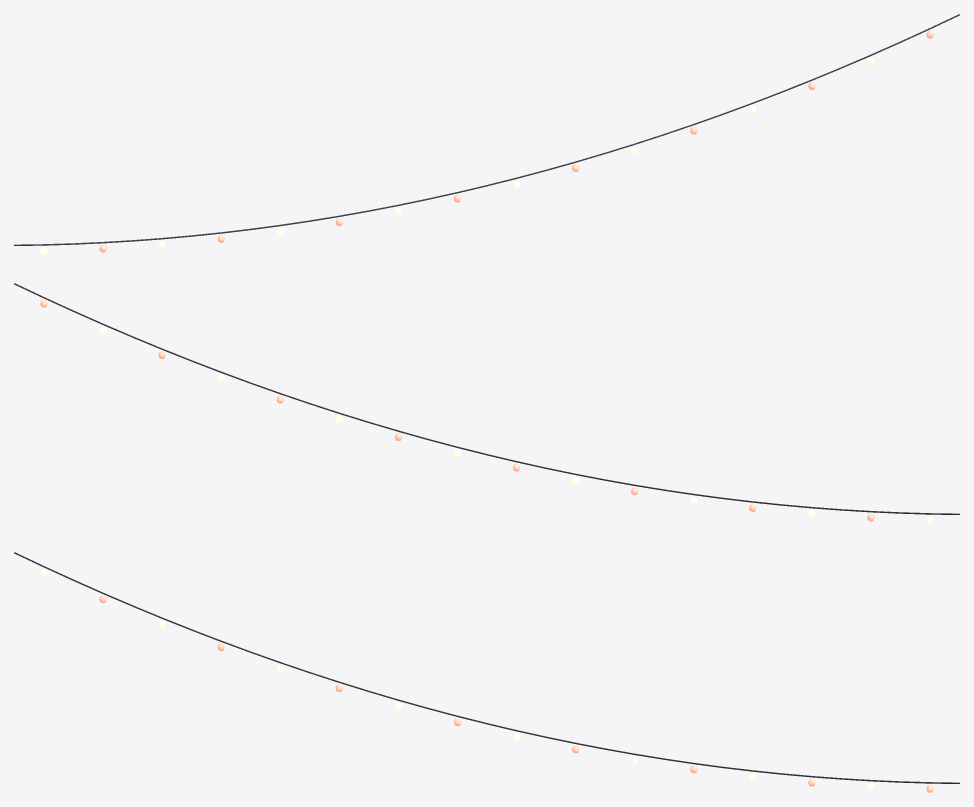
The model's file is prop_string_lights_span.glb.
The picture shows the model from 3 angles, top to bottom: view 1: azimuth 30°, elevation 25°; view 2: azimuth 150°, elevation 25°; view 3: azimuth 330°, elevation 25°; orthographic projection.
Visible parts, largest first — view 1: string_lights_wire, string_lights_bulbs; view 2: string_lights_wire, string_lights_bulbs; view 3: string_lights_wire, string_lights_bulbs.
Part boxes in pixels (left/top/right/bottom): string_lights_wire: left=14, top=14, right=959, bottom=245; string_lights_bulbs: left=40, top=31, right=933, bottom=254; string_lights_wire: left=14, top=283, right=959, bottom=514; string_lights_bulbs: left=40, top=300, right=933, bottom=523; string_lights_wire: left=14, top=552, right=959, bottom=783; string_lights_bulbs: left=40, top=569, right=933, bottom=792.
Size of the model in its own units: 16.01 by 1.07 by 0.1039.
